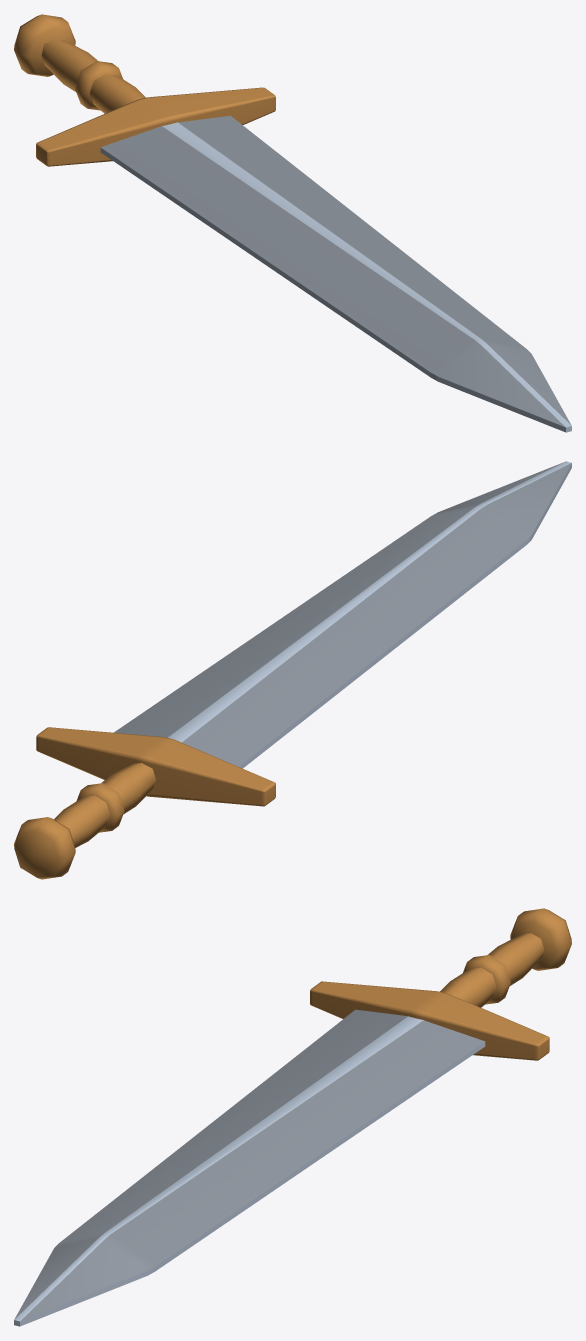
The model's file is GreatSword.fbx.
The picture shows the model from 3 angles, top to bottom: view 1: azimuth 30°, elevation 25°; view 2: azimuth 150°, elevation 25°; view 3: azimuth 330°, elevation 25°; orthographic projection.
Visible parts, largest first — view 1: GreatSword; view 2: GreatSword; view 3: GreatSword.
Boxes of the visible parts, x1,y1,x2,y2 form: GreatSword: (14, 14, 571, 432); GreatSword: (14, 461, 571, 879); GreatSword: (14, 908, 571, 1326).
Bounding box in the file's own units: 24.42 × 5.91 × 98.94.
